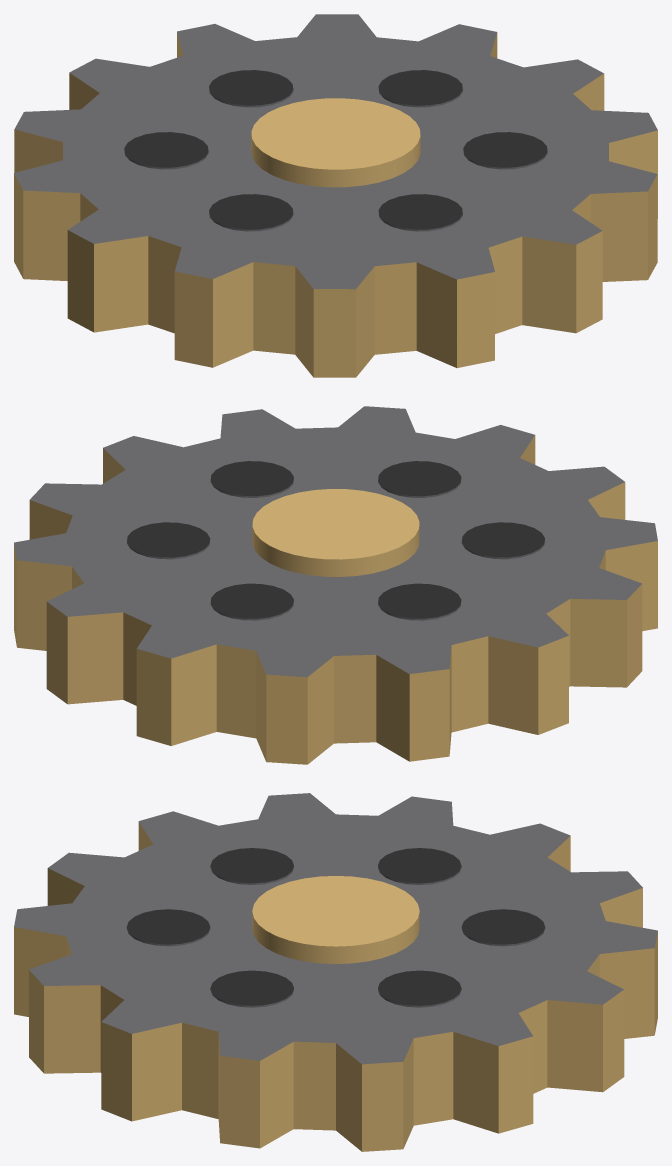
The model's file is SM_Gear.fbx.
3 views of the same model, one above another, from view 1: azimuth 30°, elevation 25°; view 2: azimuth 150°, elevation 25°; view 3: azimuth 270°, elevation 25° (orthographic).
Parts seen in each view (by area): view 1: SM_Gear; view 2: SM_Gear; view 3: SM_Gear.
Boxes of the visible parts, x1,y1,x2,y2 form: SM_Gear: (14, 14, 657, 377); SM_Gear: (14, 406, 657, 764); SM_Gear: (14, 793, 657, 1151).
Bounding box in the file's own units: 199 × 42 × 200.
